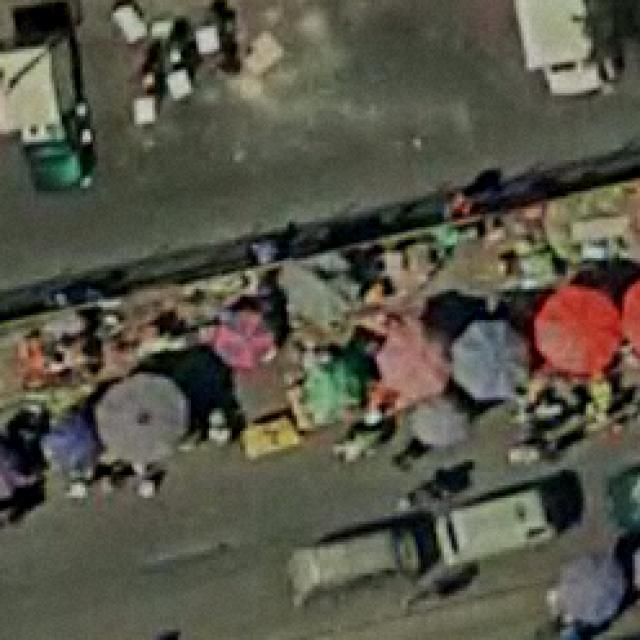vendedor_ambulante: (91, 366, 193, 468), (532, 280, 626, 377), (450, 314, 532, 402), (372, 318, 457, 399), (206, 300, 288, 374), (548, 547, 626, 623), (296, 344, 368, 422), (37, 406, 100, 478), (410, 391, 476, 451), (0, 436, 29, 498), (625, 258, 640, 364), (627, 526, 640, 606)
